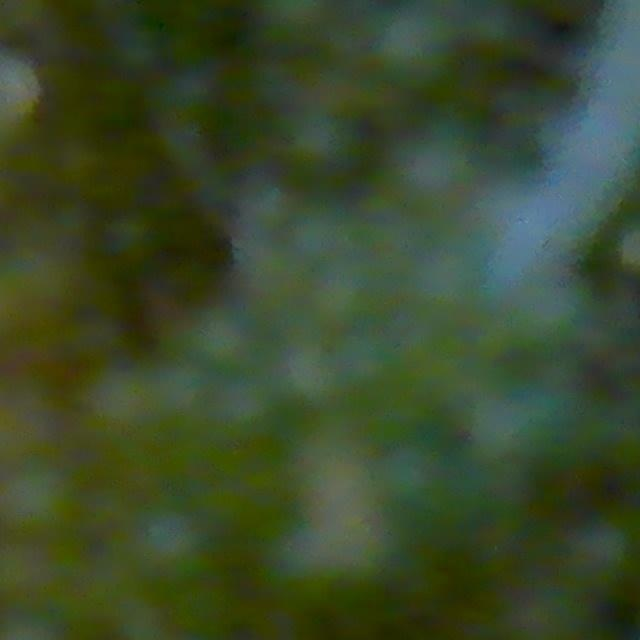SeaGrape: (372, 1, 456, 86), (80, 363, 163, 441), (0, 459, 78, 540), (130, 504, 208, 583), (181, 301, 256, 373), (564, 517, 636, 589), (208, 373, 275, 441), (253, 0, 335, 54)
